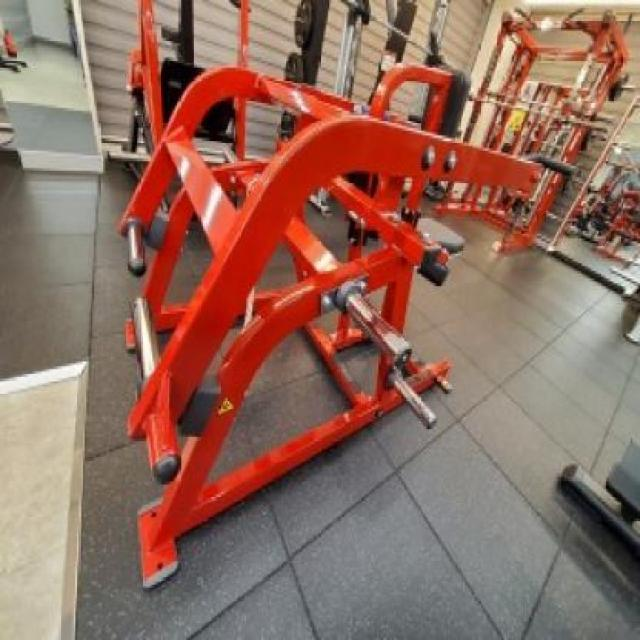seated dip machine: (120, 55, 578, 591)
smith machine: (464, 11, 634, 138)
